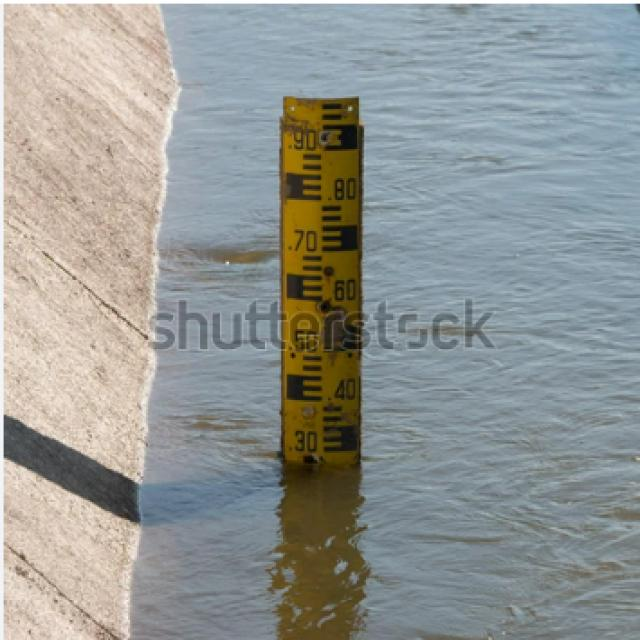ruler: (263, 83, 381, 481)
value: (282, 222, 322, 258), (320, 272, 360, 307), (280, 123, 322, 156), (282, 323, 322, 356), (320, 174, 360, 206), (322, 373, 360, 406), (284, 425, 323, 456)
